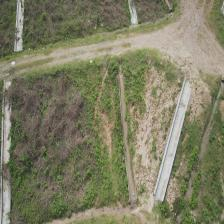slope drain: (154, 79, 191, 203), (118, 60, 137, 205)
